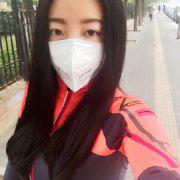OK: (49, 15, 107, 85)
